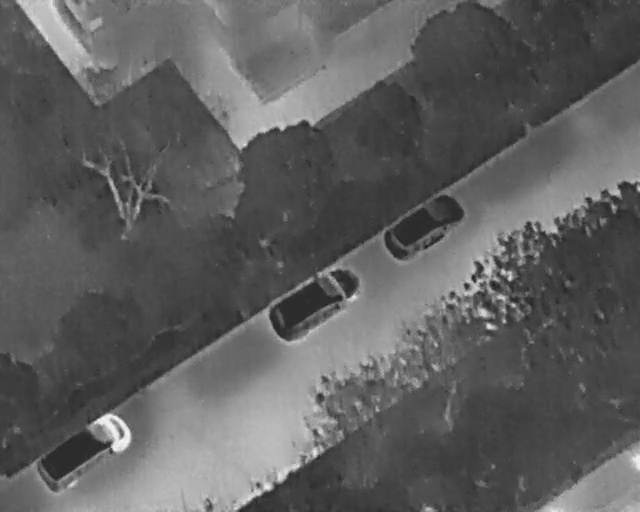Car: (28, 403, 140, 502), (258, 254, 372, 351), (375, 185, 470, 269)
